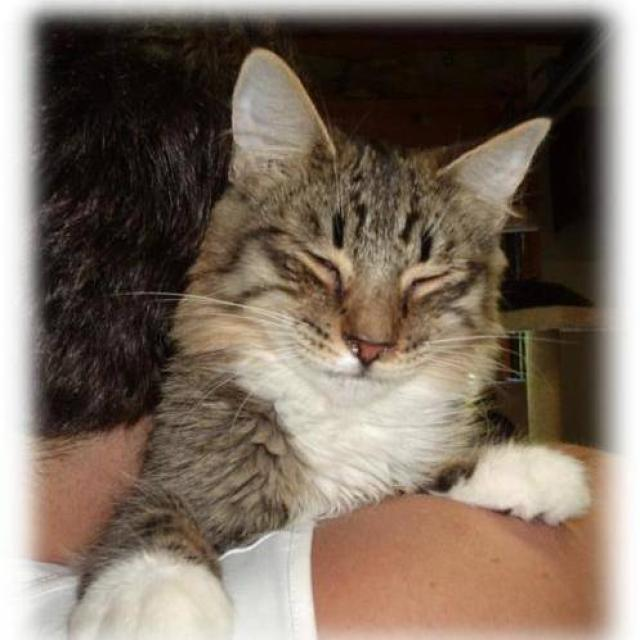cat: (30, 42, 592, 639)
